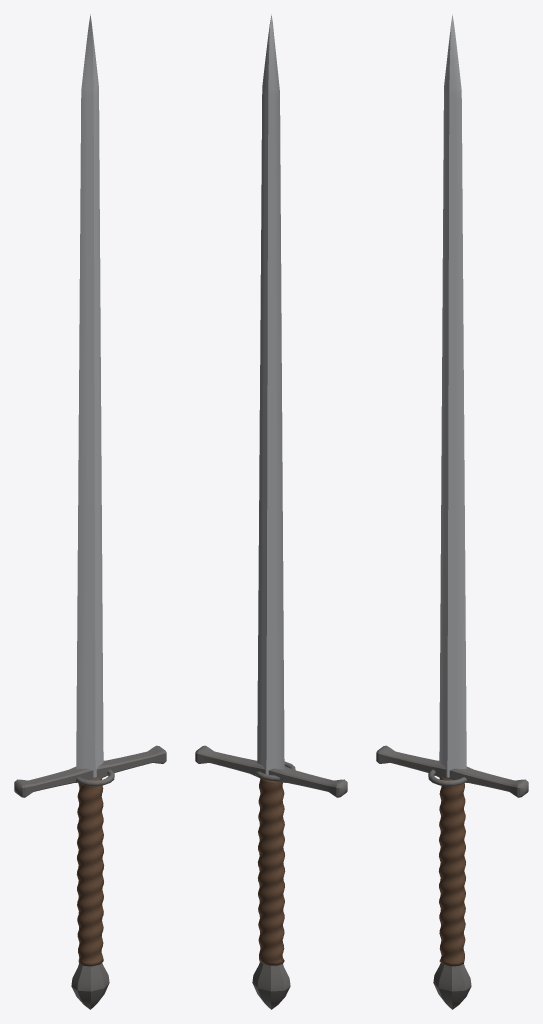
File: estoc.glb
3 views of the same model, side by side, from view 1: azimuth 30°, elevation 25°; view 2: azimuth 150°, elevation 25°; view 3: azimuth 330°, elevation 25° (orthographic).
Visible parts, largest first — view 1: estoc; view 2: estoc; view 3: estoc.
Part boxes in pixels (x1=…): estoc: x1=14, y1=14, x2=166, y2=1009; estoc: x1=195, y1=14, x2=347, y2=1009; estoc: x1=376, y1=14, x2=528, y2=1009.
Bounding box in the file's own units: 0.48 × 3.06 × 0.1181.
